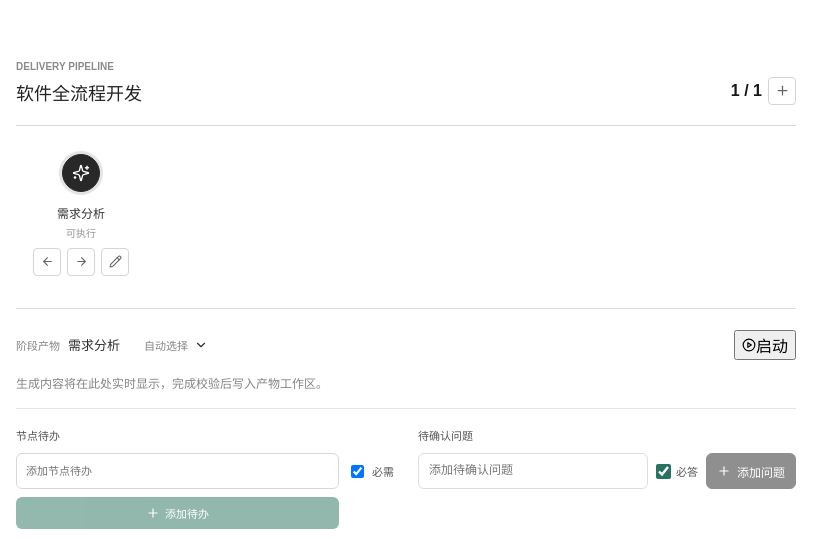
it: RequirementDetailPage AI run controls › creates a pending node todo without optimistic insertion
The image size is (813, 539).
(page scrolled)
Type "  Review release notes  " into the field named "新建节点待办".
click(178, 471); type("  Review release notes  ")  # box [16,453,339,489]
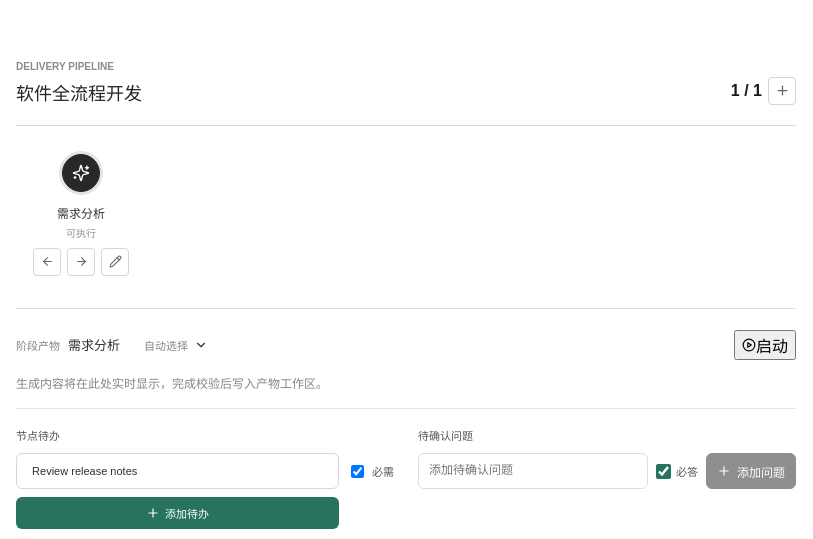
Click the button "添加待办".
click(178, 513)  # box [16,497,339,529]
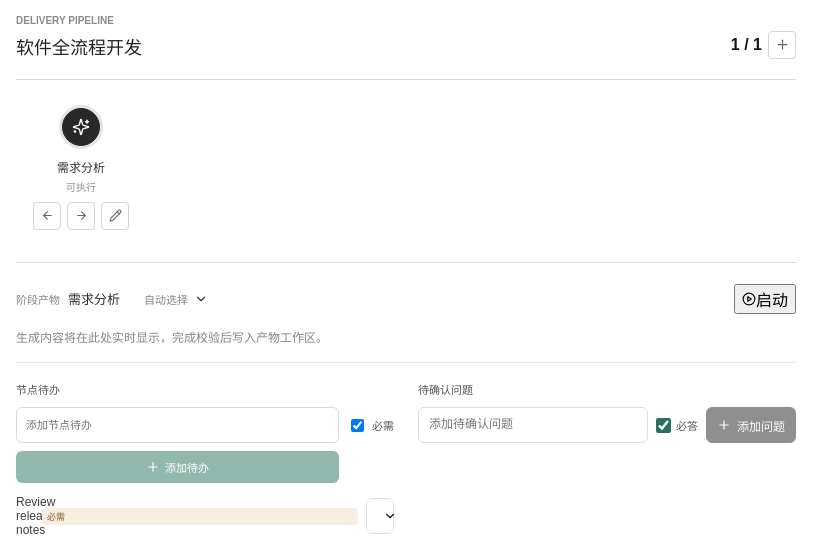
Expected: the text "Review release notes" is shown, [16,495,34,537]
